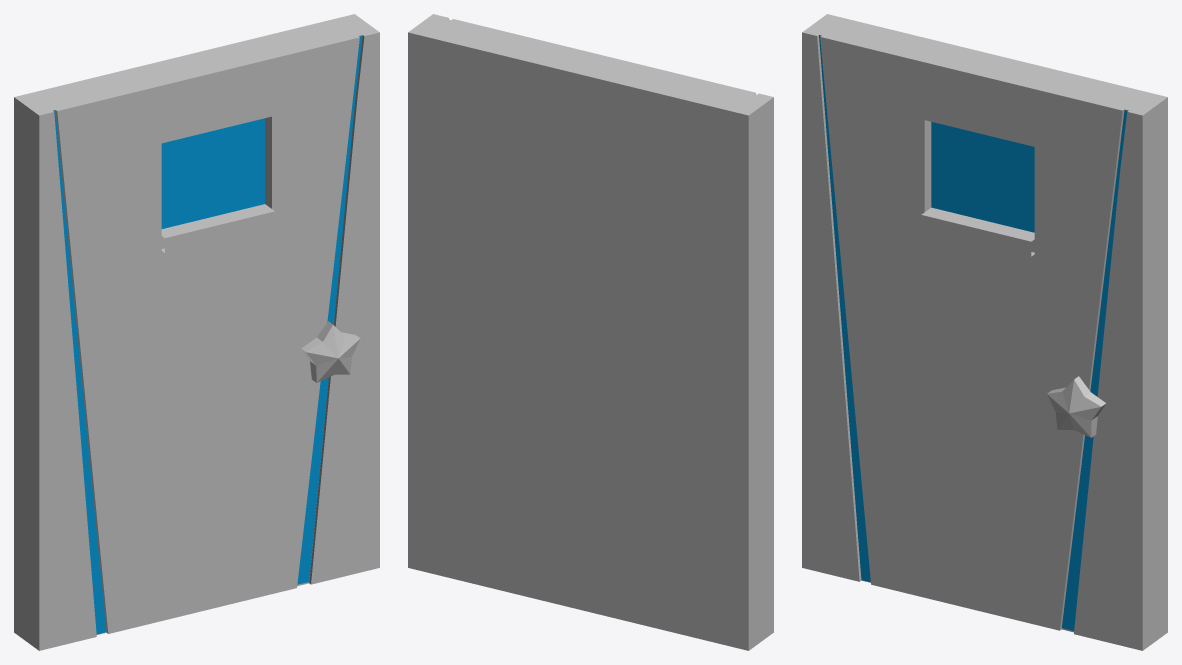
Rendered from Building_SquareDoor_Star_Dark.fbx.
3 renders of one model, left to right at view 1: azimuth 30°, elevation 25°; view 2: azimuth 150°, elevation 25°; view 3: azimuth 330°, elevation 25°, orthographic.
Parts seen in each view (by area): view 1: Cube.053; view 2: Cube.053; view 3: Cube.053.
Boxes of the visible parts, box(x1,y1,x2,y2) form: Cube.053: box(14, 14, 379, 650); Cube.053: box(408, 14, 773, 650); Cube.053: box(802, 14, 1167, 650).
Size of the model in its own units: 87.3 by 131 by 18.36.
